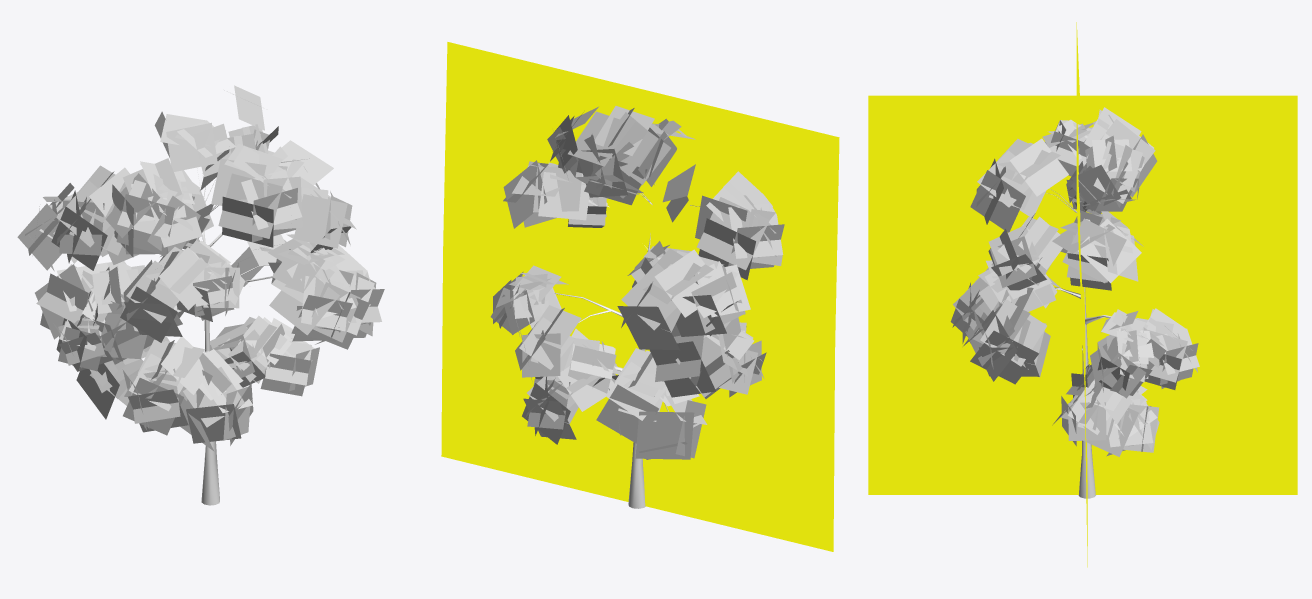
The model's file is Foliage_Trees_Tree_4_Brich_Tree4_MidBlend.glb.
The picture shows the model from 3 angles, left to right: view 1: azimuth 30°, elevation 25°; view 2: azimuth 150°, elevation 25°; view 3: azimuth 270°, elevation 25°; orthographic projection. The views are drawn at different scales.
Visible parts, largest first — view 1: Tree4_Low.001; view 2: Tree4_Low.001; view 3: Tree4_Low.001.
Part boxes in pixels (x1,y1,x2,y2): Tree4_Low.001: [17, 85, 384, 505]; Tree4_Low.001: [441, 42, 839, 551]; Tree4_Low.001: [868, 22, 1297, 567].
Bounding box in the file's own units: 5.6 × 5.62 × 5.6.
Materials: 3 (1 with a texture image).
